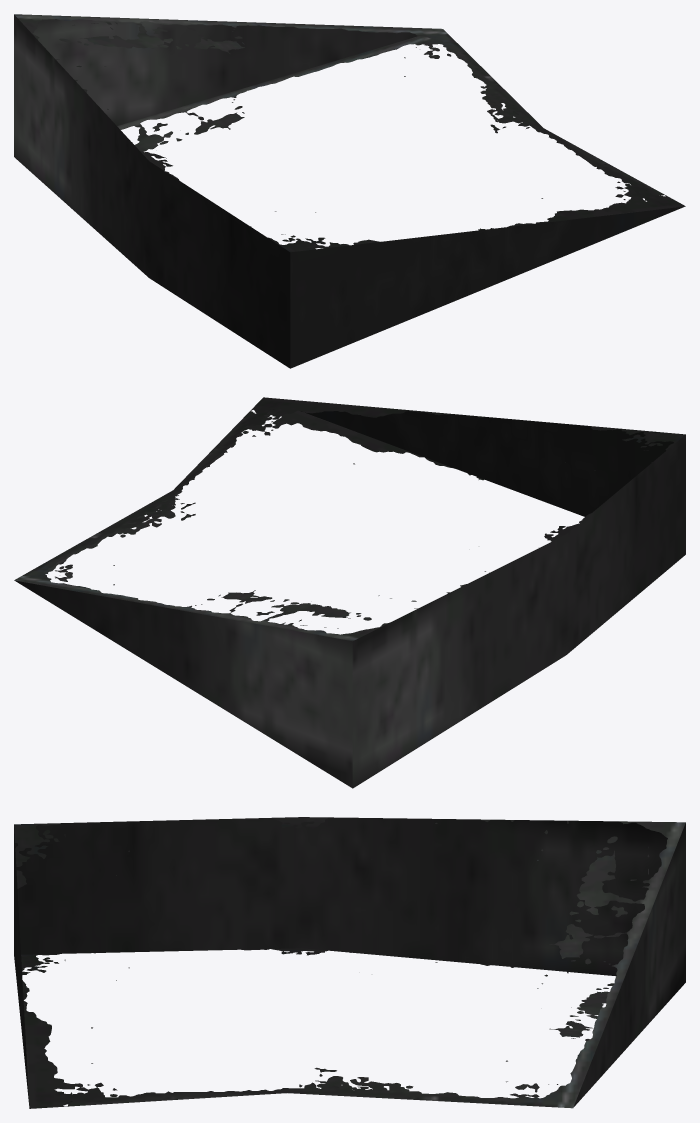
File: t6_attach_mag_svu_world_LOD1.obj
3 views of the same model, one above another, from view 1: azimuth 30°, elevation 25°; view 2: azimuth 150°, elevation 25°; view 3: azimuth 270°, elevation 25° (orthographic). The views are drawn at different scales.
Visible parts, largest first — view 1: mtl_t6_wpn_sniper_svu, mtl_t6_wpn_sniper_svu_camo3; view 2: mtl_t6_wpn_sniper_svu, mtl_t6_wpn_sniper_svu_camo3; view 3: mtl_t6_wpn_sniper_svu_camo3, mtl_t6_wpn_sniper_svu.
Boxes of the visible parts, x1=… form: mtl_t6_wpn_sniper_svu: x1=14, y1=14, x2=685, y2=368; mtl_t6_wpn_sniper_svu_camo3: x1=14, y1=14, x2=290, y2=368; mtl_t6_wpn_sniper_svu: x1=14, y1=397, x2=685, y2=788; mtl_t6_wpn_sniper_svu_camo3: x1=352, y1=435, x2=685, y2=788; mtl_t6_wpn_sniper_svu_camo3: x1=15, y1=817, x2=667, y2=976; mtl_t6_wpn_sniper_svu: x1=14, y1=817, x2=685, y2=1108.
Bounding box in the file's own units: 10.88 × 3.57 × 13.59.
